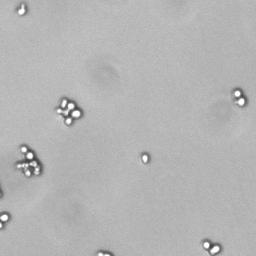budding: (199, 237, 222, 255), (230, 87, 248, 108), (14, 1, 28, 17), (1, 211, 11, 232), (94, 249, 115, 256)
cluster: (13, 143, 44, 181), (54, 94, 84, 127)
individual: (140, 153, 151, 166)
